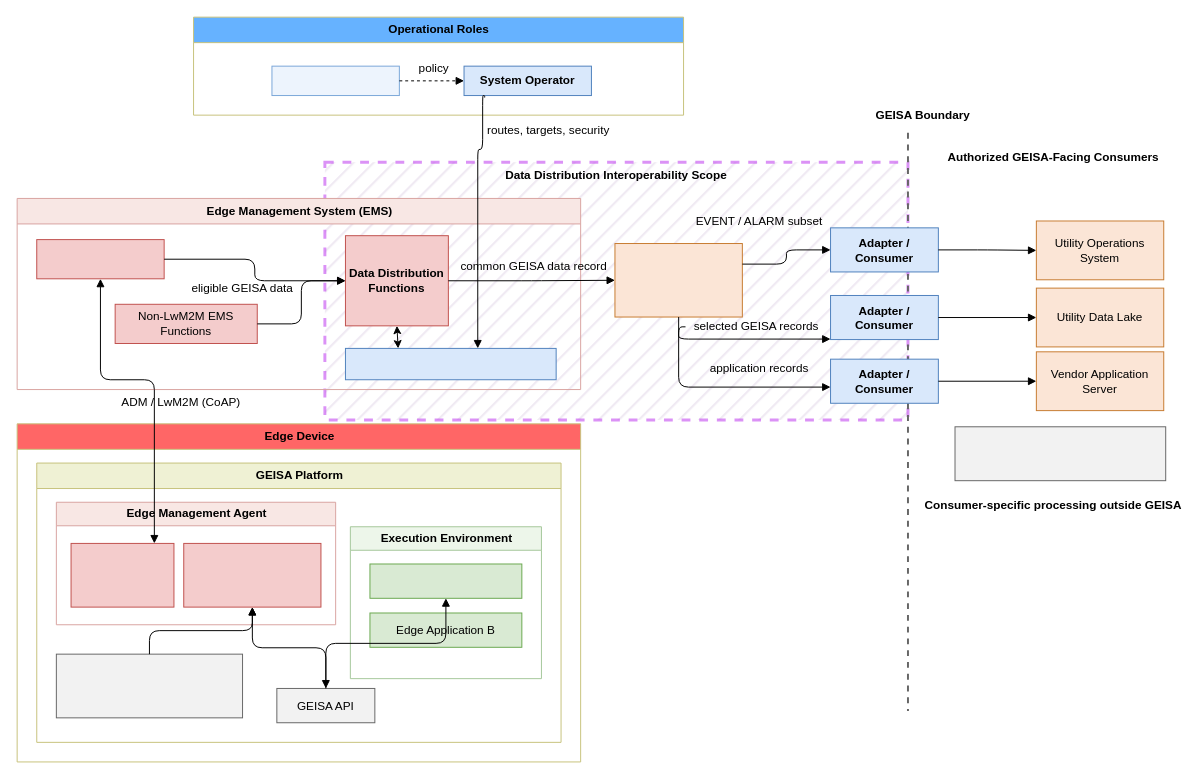
Some shapes in this 1199 by 779 pixel diagram are drawn without their labels. Here are the shapes that lost their labels. From the top down, the centre of each, then its label:
At (335,80): "System Owner".
At (100,259): "LwM2M Server".
At (678,280): "Kafka-Compatible Data Distribution Service".
At (450,363): "Route / Target Configuration".
At (1060,453): "Transformation, routing, persistence, and native-system ingestion".
At (122,574): "LwM2M Client".
At (252,574): "Non-LwM2M Platform Functions policy, queues, local event/data handling".
At (445,580): "Edge Application A".
At (149,685): "Platform Monitoring, Accounting, Events, Logs".
